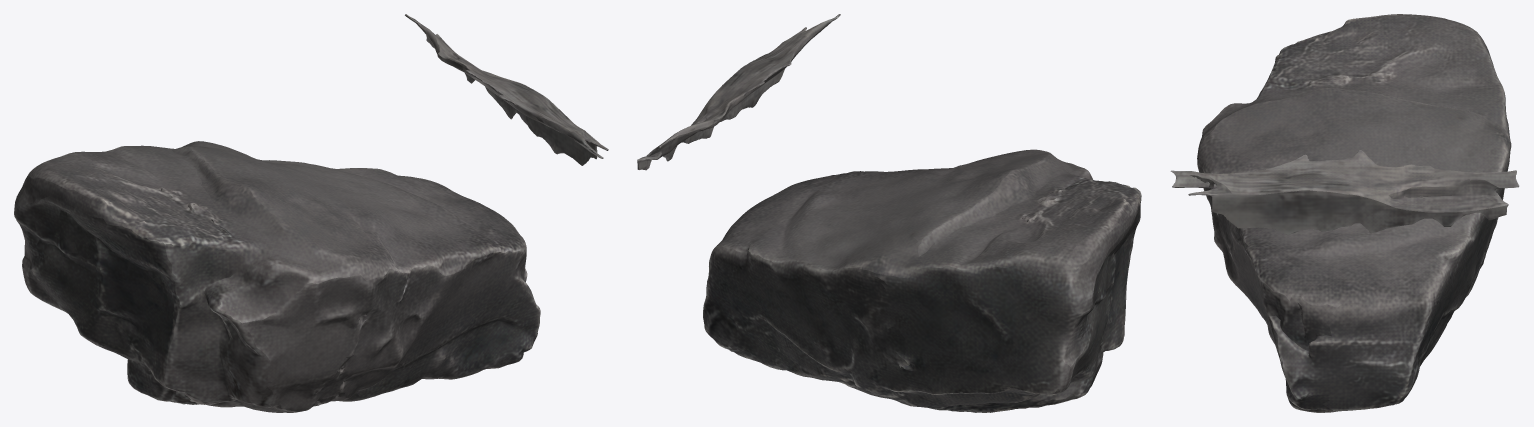
The model's file is tex_mesh.glb.
The picture shows the model from 3 angles, left to right: view 1: azimuth 30°, elevation 25°; view 2: azimuth 150°, elevation 25°; view 3: azimuth 270°, elevation 25°; orthographic projection. The views are drawn at different scales.
Parts seen in each view (by area): view 1: world; view 2: world; view 3: world.
Part boxes in pixels (x1,y1,x2,y2): world: [14, 14, 608, 412]; world: [637, 14, 1141, 412]; world: [1170, 14, 1519, 412].
Bounding box in the file's own units: 3.5 × 2.07 × 2.57.
Materials: 1 (1 with a texture image).
